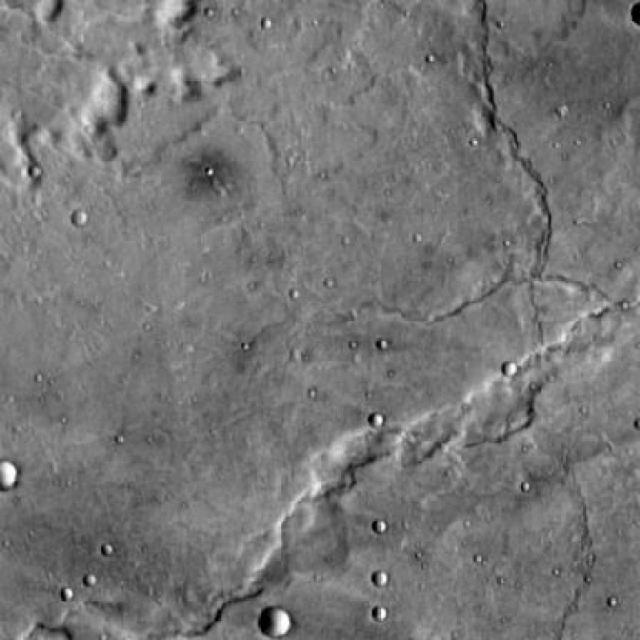crater: (260, 607, 291, 638), (0, 463, 26, 491)
